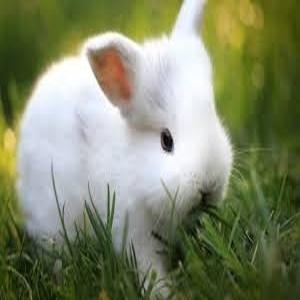rabbit: (17, 0, 236, 298)
